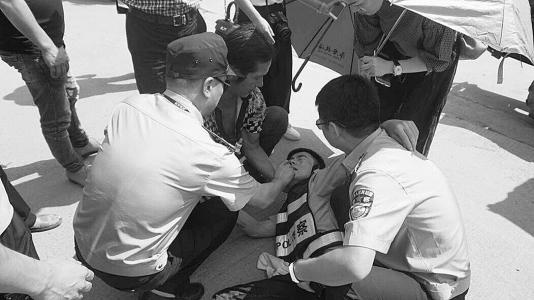falling: (230, 129, 361, 300)
